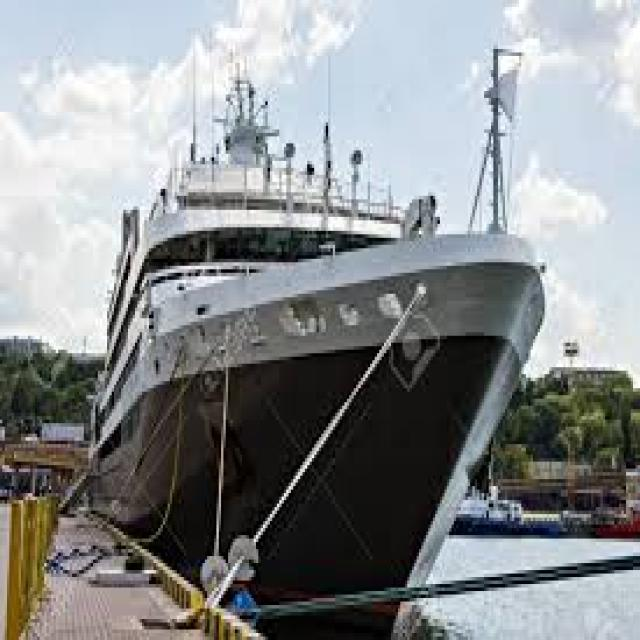passenger ship: (88, 59, 551, 632)
